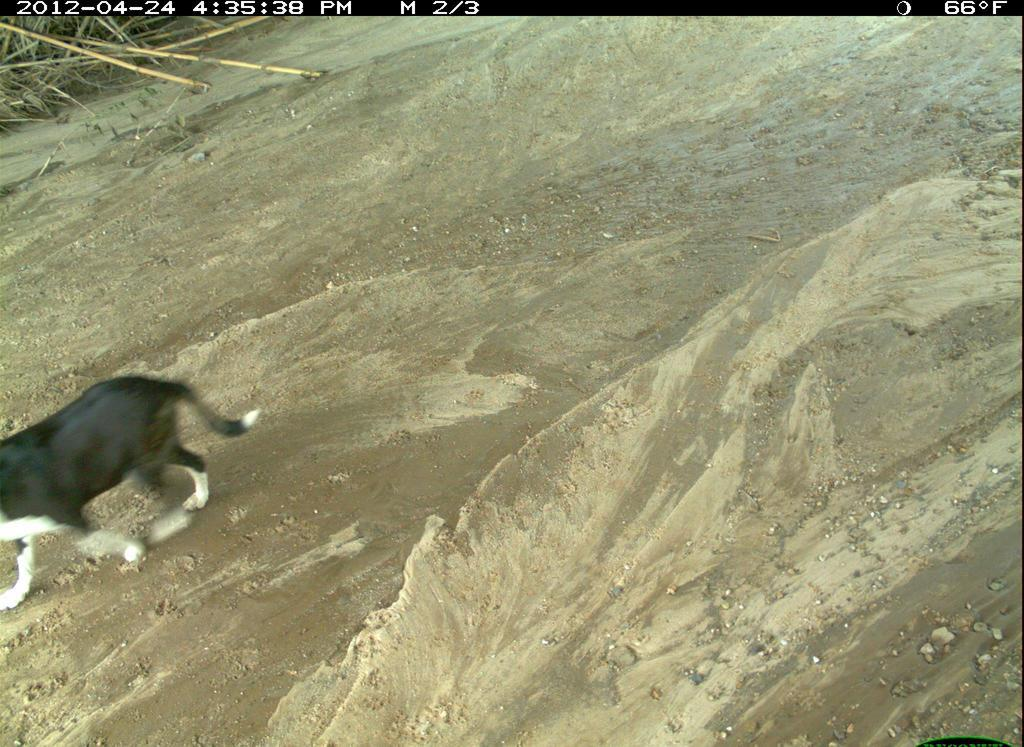dog: (1, 735, 538, 747)
